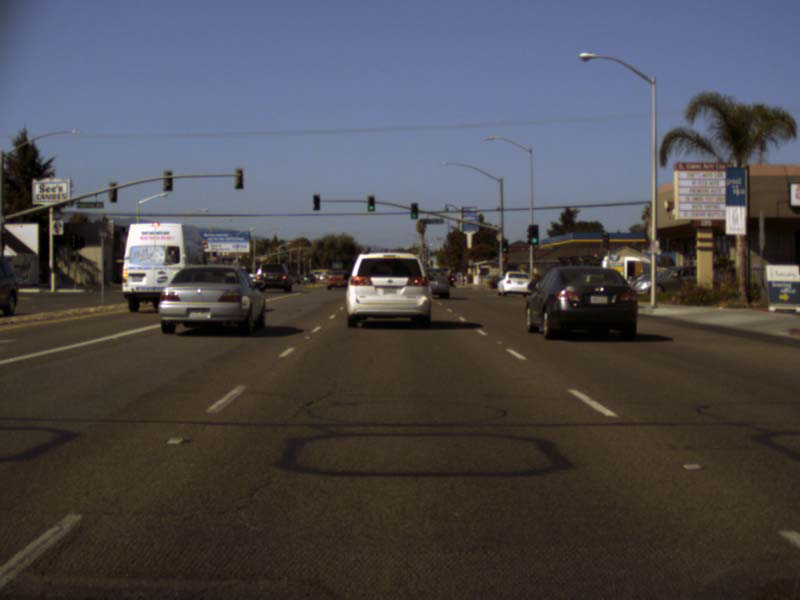Green: (529, 224, 538, 244), (366, 195, 375, 211), (410, 202, 418, 219), (502, 239, 508, 253)
